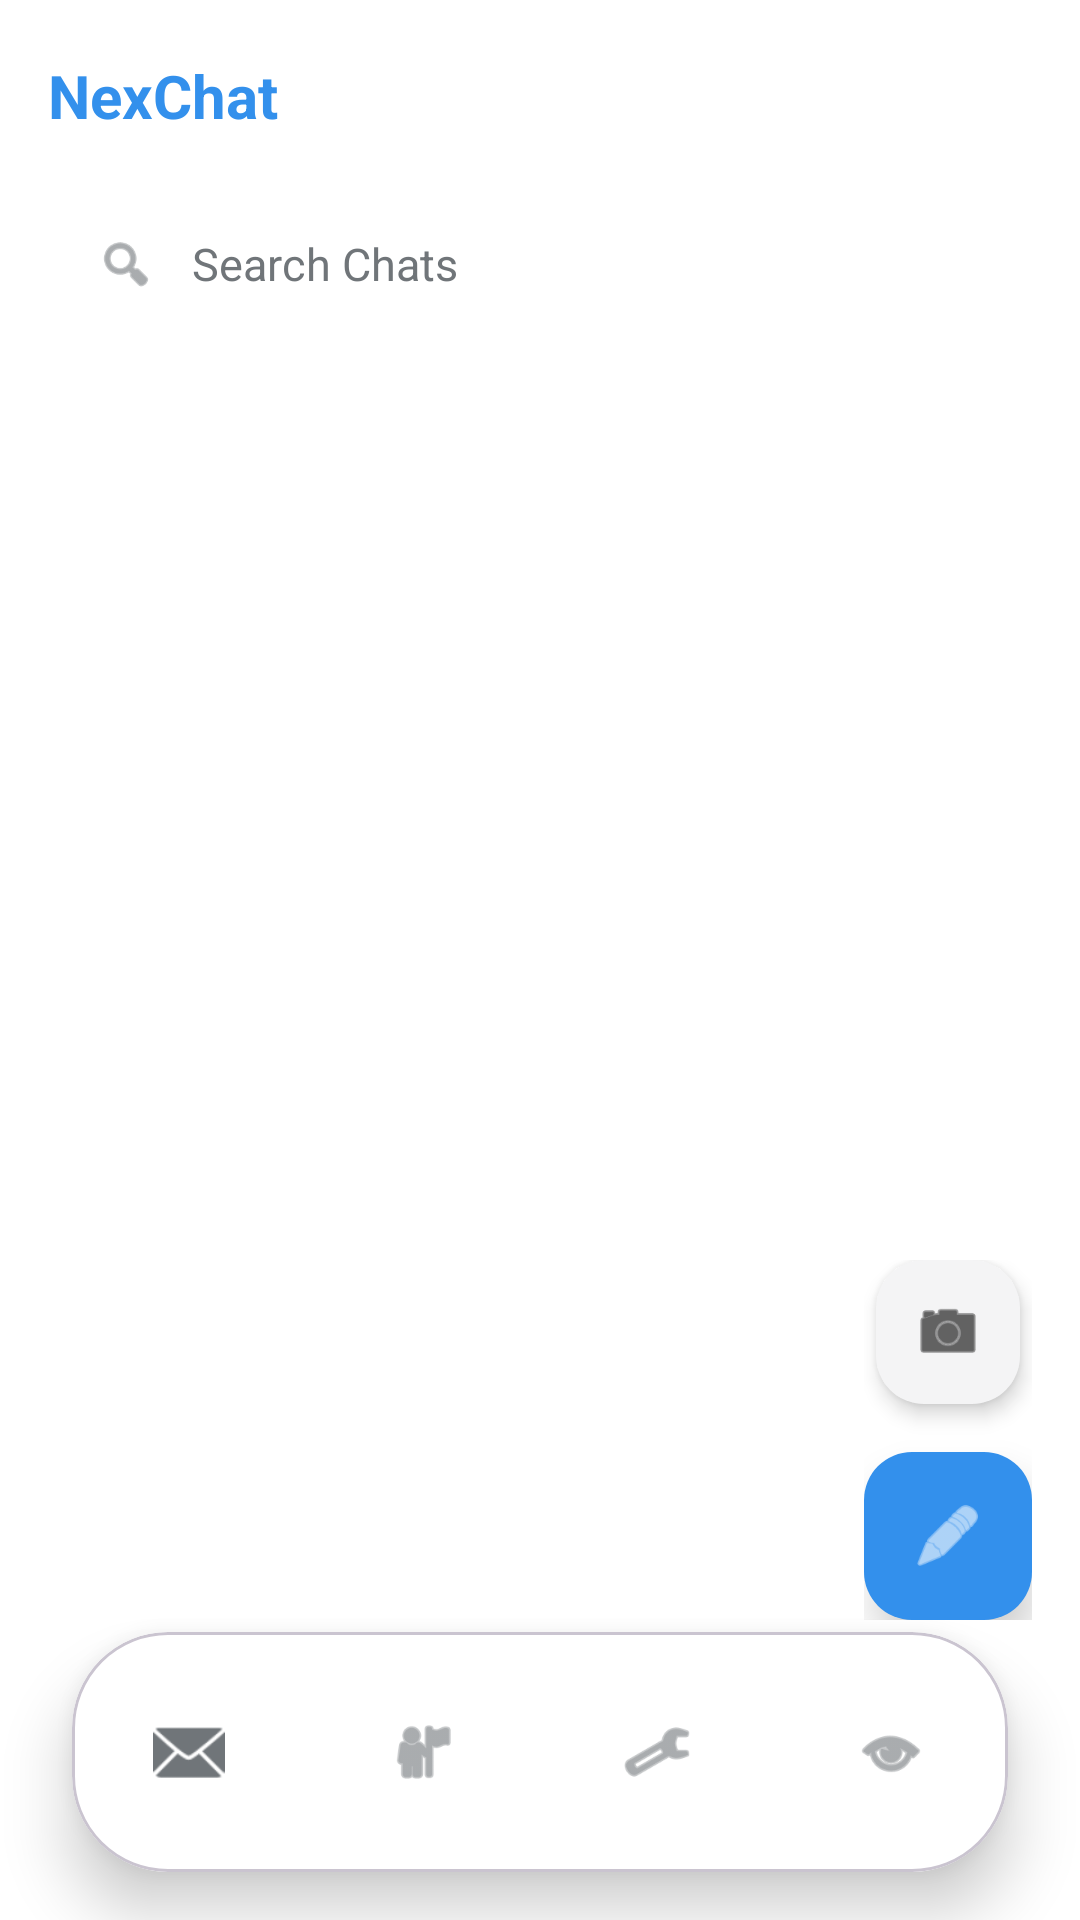

Named icons in this screenshot (1080×1920) and their bounding boxes, {"x1": x1, "y1": y1, "x2": x2, "y2": y2}:
edit: {"x1": 864, "y1": 1452, "x2": 1032, "y2": 1620}
